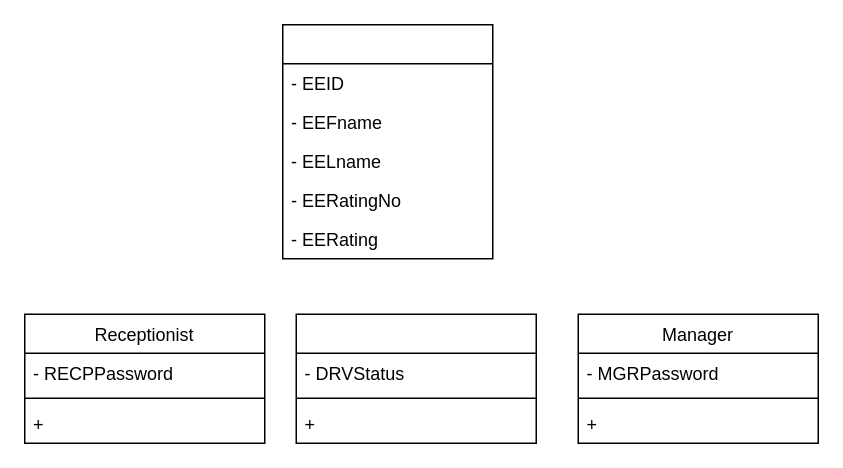
Some shapes in this 843 by 468 pixel diagram are drawn without their labels. The shapes that lost their labels are listed below. From the top down, each one's box as (x1, y1, x2, y2) in pixels, then its label:
(281, 23, 493, 259): Employee
(295, 313, 536, 443): Delivery Driver
